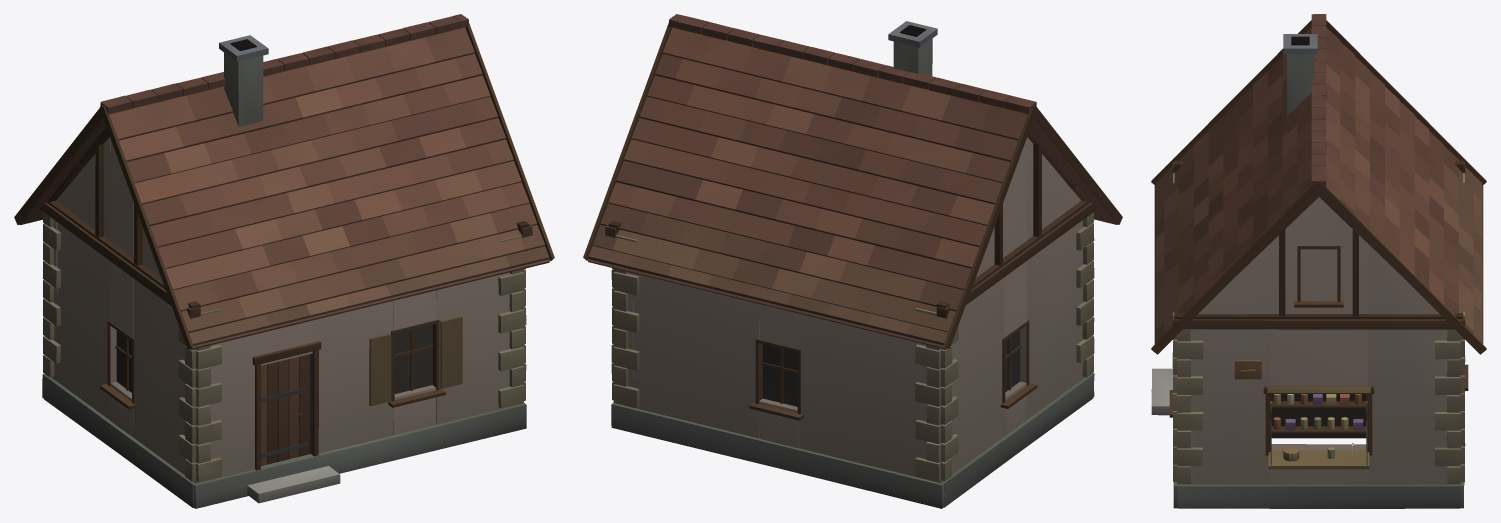
File: ph_bld_v_shop.glb
3 views of the same model, side by side, from view 1: azimuth 30°, elevation 25°; view 2: azimuth 150°, elevation 25°; view 3: azimuth 270°, elevation 25° (orthographic). The views are drawn at different scales.
Parts seen in each view (by area): view 1: ph_bld_v_shop; view 2: ph_bld_v_shop; view 3: ph_bld_v_shop.
Boxes of the visible parts, x1,y1,x2,y2 form: ph_bld_v_shop: (14, 14, 554, 508); ph_bld_v_shop: (583, 14, 1122, 508); ph_bld_v_shop: (1151, 14, 1486, 508).
Bounding box in the file's own units: 6.74 × 6.61 × 5.46.
